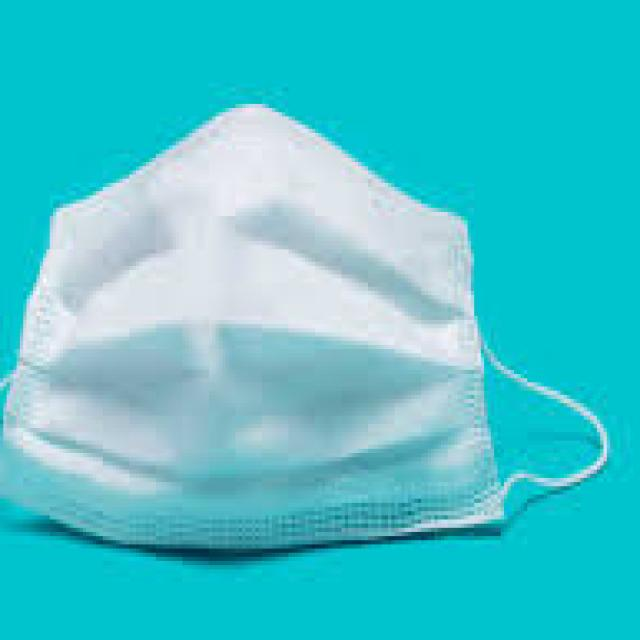organic: (7, 91, 568, 596)
